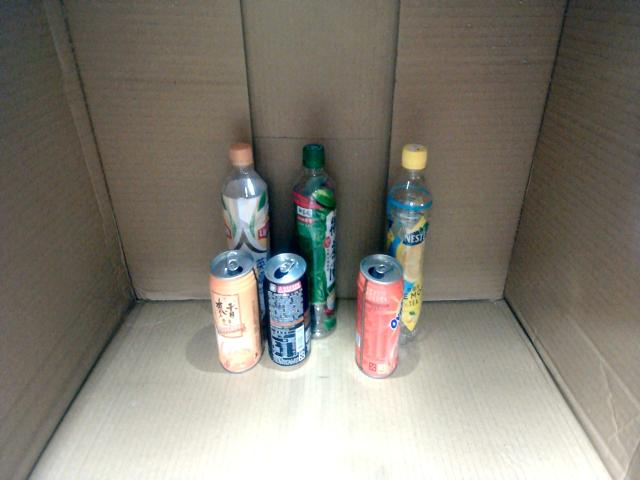Canned_drinks: (209, 247, 264, 374), (353, 251, 405, 380), (262, 252, 312, 366)
bottle: (384, 141, 436, 343), (288, 139, 339, 342), (220, 142, 272, 324)
